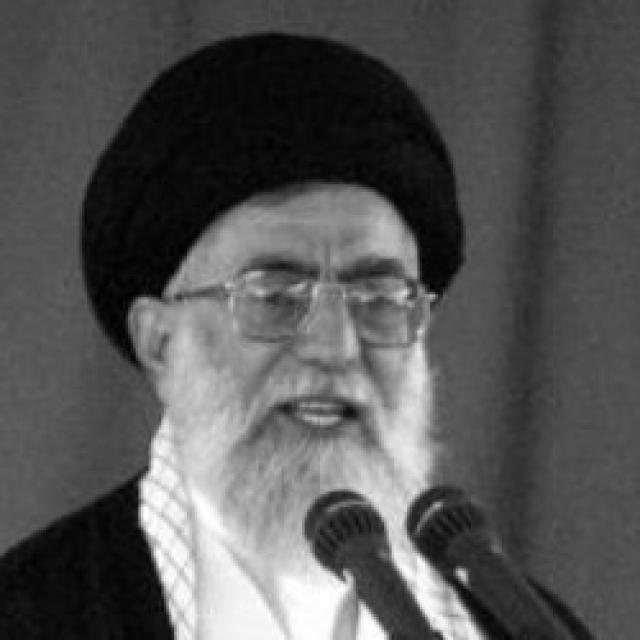real: (170, 196, 443, 482), (234, 276, 421, 320)
